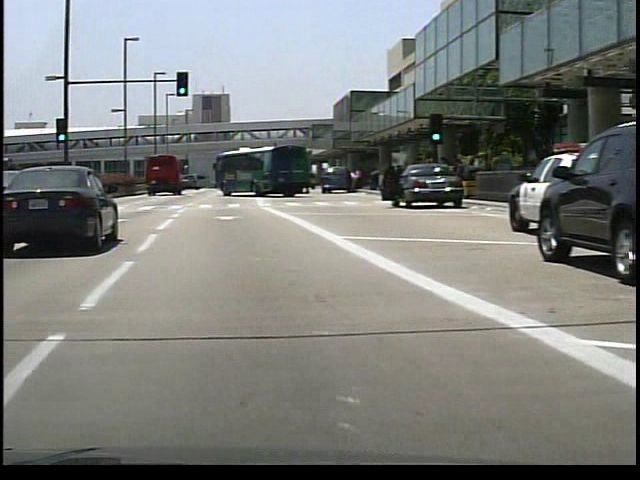person: (343, 167, 355, 193)
